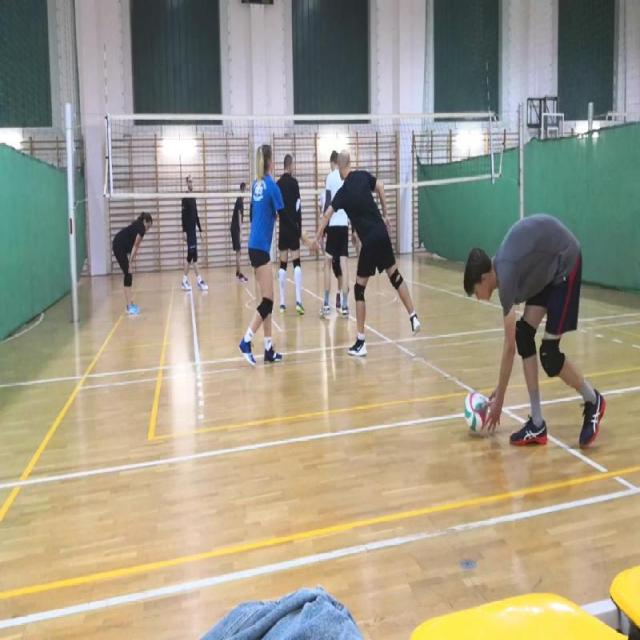volleyball: (464, 390, 487, 430)
